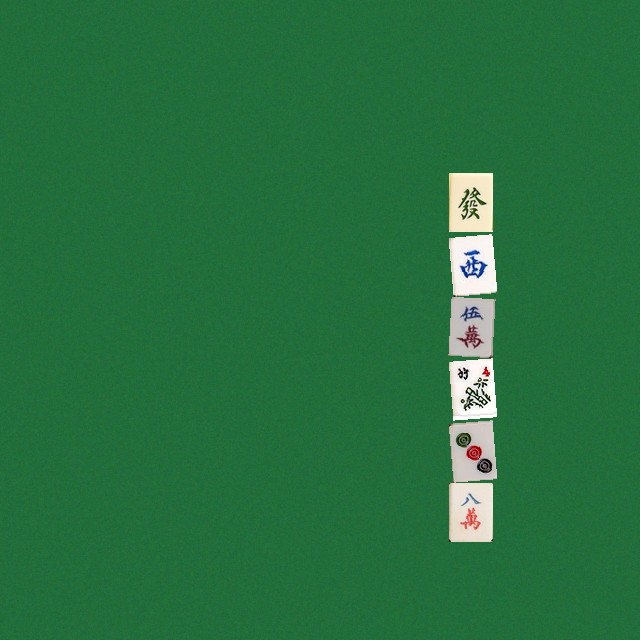tile: (448, 172, 492, 231), (448, 234, 492, 293), (448, 296, 492, 355), (448, 358, 492, 417), (448, 420, 492, 479), (448, 482, 492, 541)
